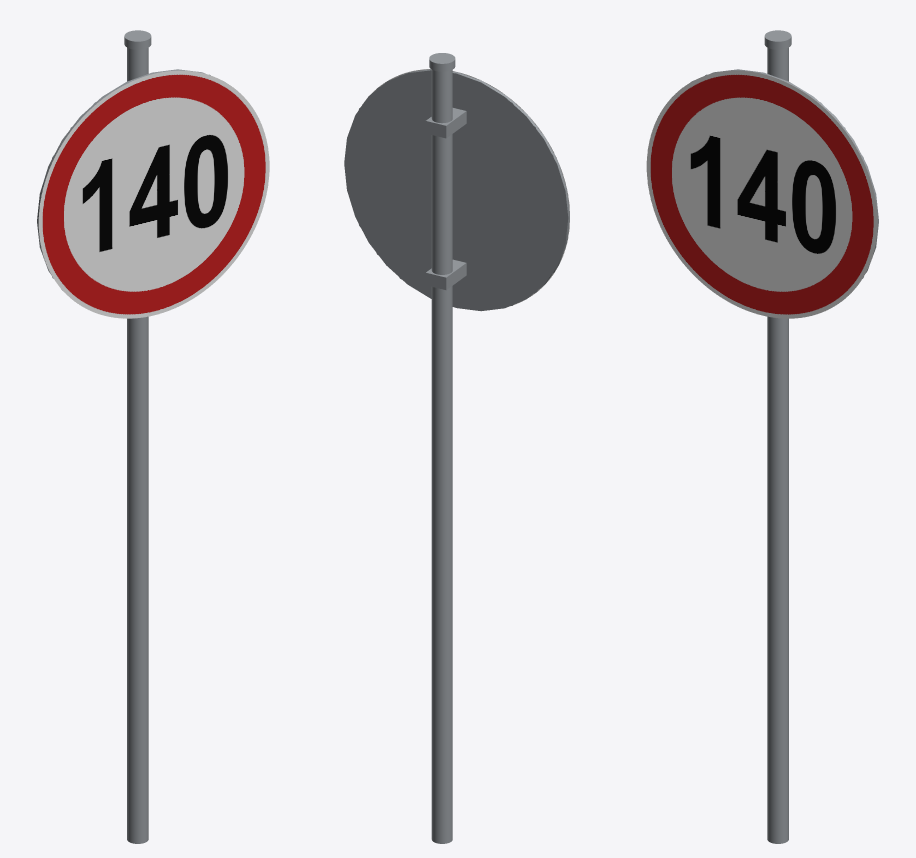
The model's file is sign_speed140kph.dae.
3 views of the same model, side by side, from view 1: azimuth 30°, elevation 25°; view 2: azimuth 150°, elevation 25°; view 3: azimuth 330°, elevation 25° (orthographic). The views are drawn at different scales.
Parts seen in each view (by area): view 1: sign128, sign48, sign4; view 2: sign128, sign48, sign4; view 3: sign128, sign48, sign4.
Boxes of the visible parts, left/top/right/bottom form: sign128: left=37, top=30, right=269, bottom=843; sign48: left=52, top=30, right=210, bottom=843; sign4: left=70, top=30, right=150, bottom=843; sign128: left=344, top=53, right=569, bottom=843; sign48: left=344, top=53, right=567, bottom=843; sign4: left=344, top=53, right=567, bottom=843; sign128: left=646, top=30, right=878, bottom=843; sign48: left=705, top=30, right=863, bottom=843; sign4: left=765, top=30, right=845, bottom=843.
Bounding box in the file's own units: 0.9 × 0.1275 × 2.47.
Materials: 2 (1 with a texture image).
